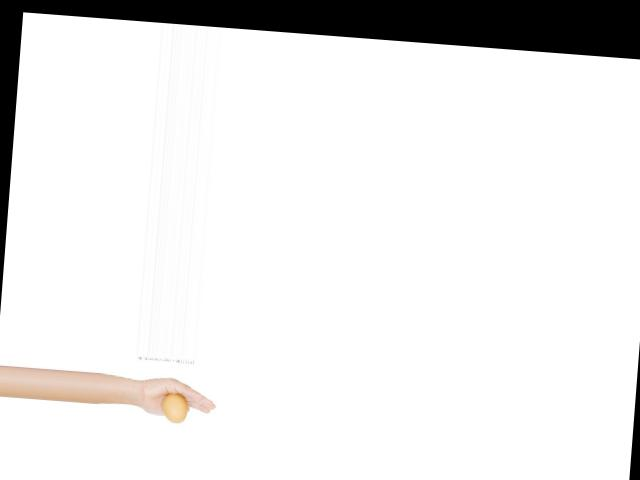egg: (161, 391, 189, 424)
